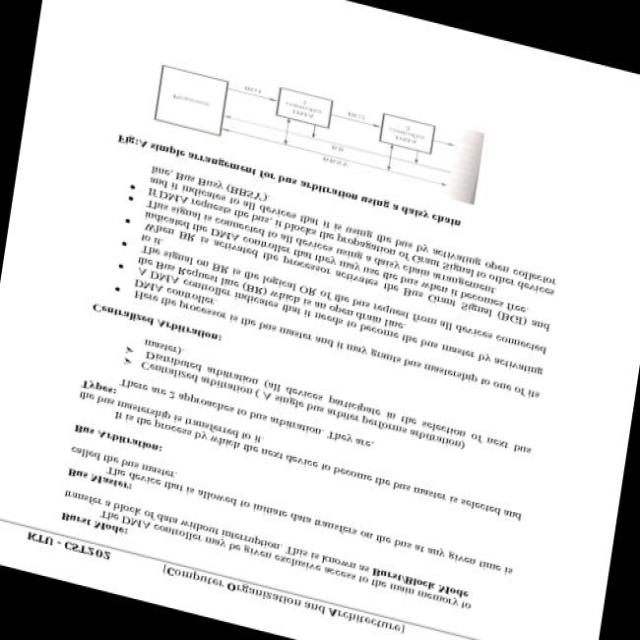Figure Detection - v3 Dataset Version2: (142, 44, 468, 207)
